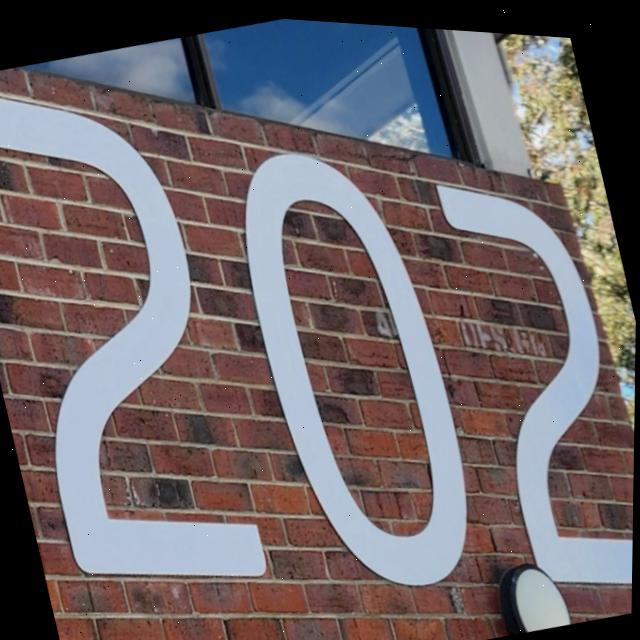character: (0, 42, 285, 627), (210, 115, 501, 621), (424, 144, 638, 620)
